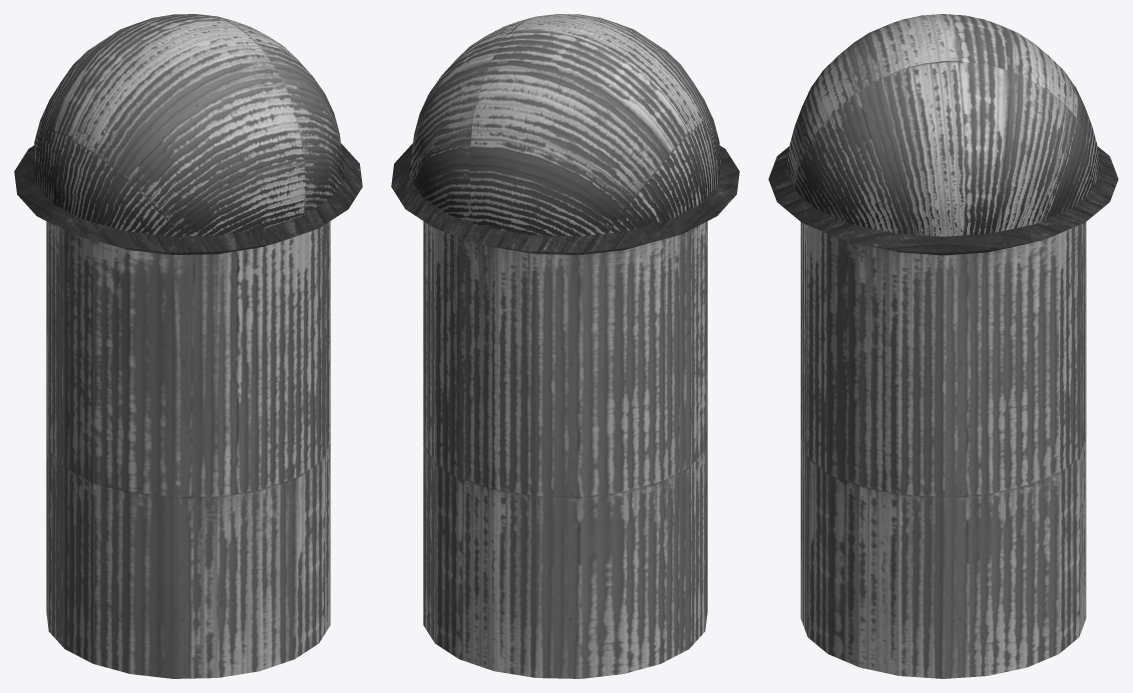
File: slasher_silo_mesh.fbx
3 views of the same model, side by side, from view 1: azimuth 30°, elevation 25°; view 2: azimuth 150°, elevation 25°; view 3: azimuth 270°, elevation 25° (orthographic).
Parts seen in each view (by area): view 1: pasted__pSphere1; view 2: pasted__pSphere1; view 3: pasted__pSphere1.
Boxes of the visible parts, box(x1,y1,x2,y2) form: pasted__pSphere1: box(14, 14, 362, 678); pasted__pSphere1: box(391, 14, 739, 678); pasted__pSphere1: box(768, 14, 1118, 678).
Size of the model in its own units: 13.6 by 25.29 by 13.6.
1 material, 1 textured.
